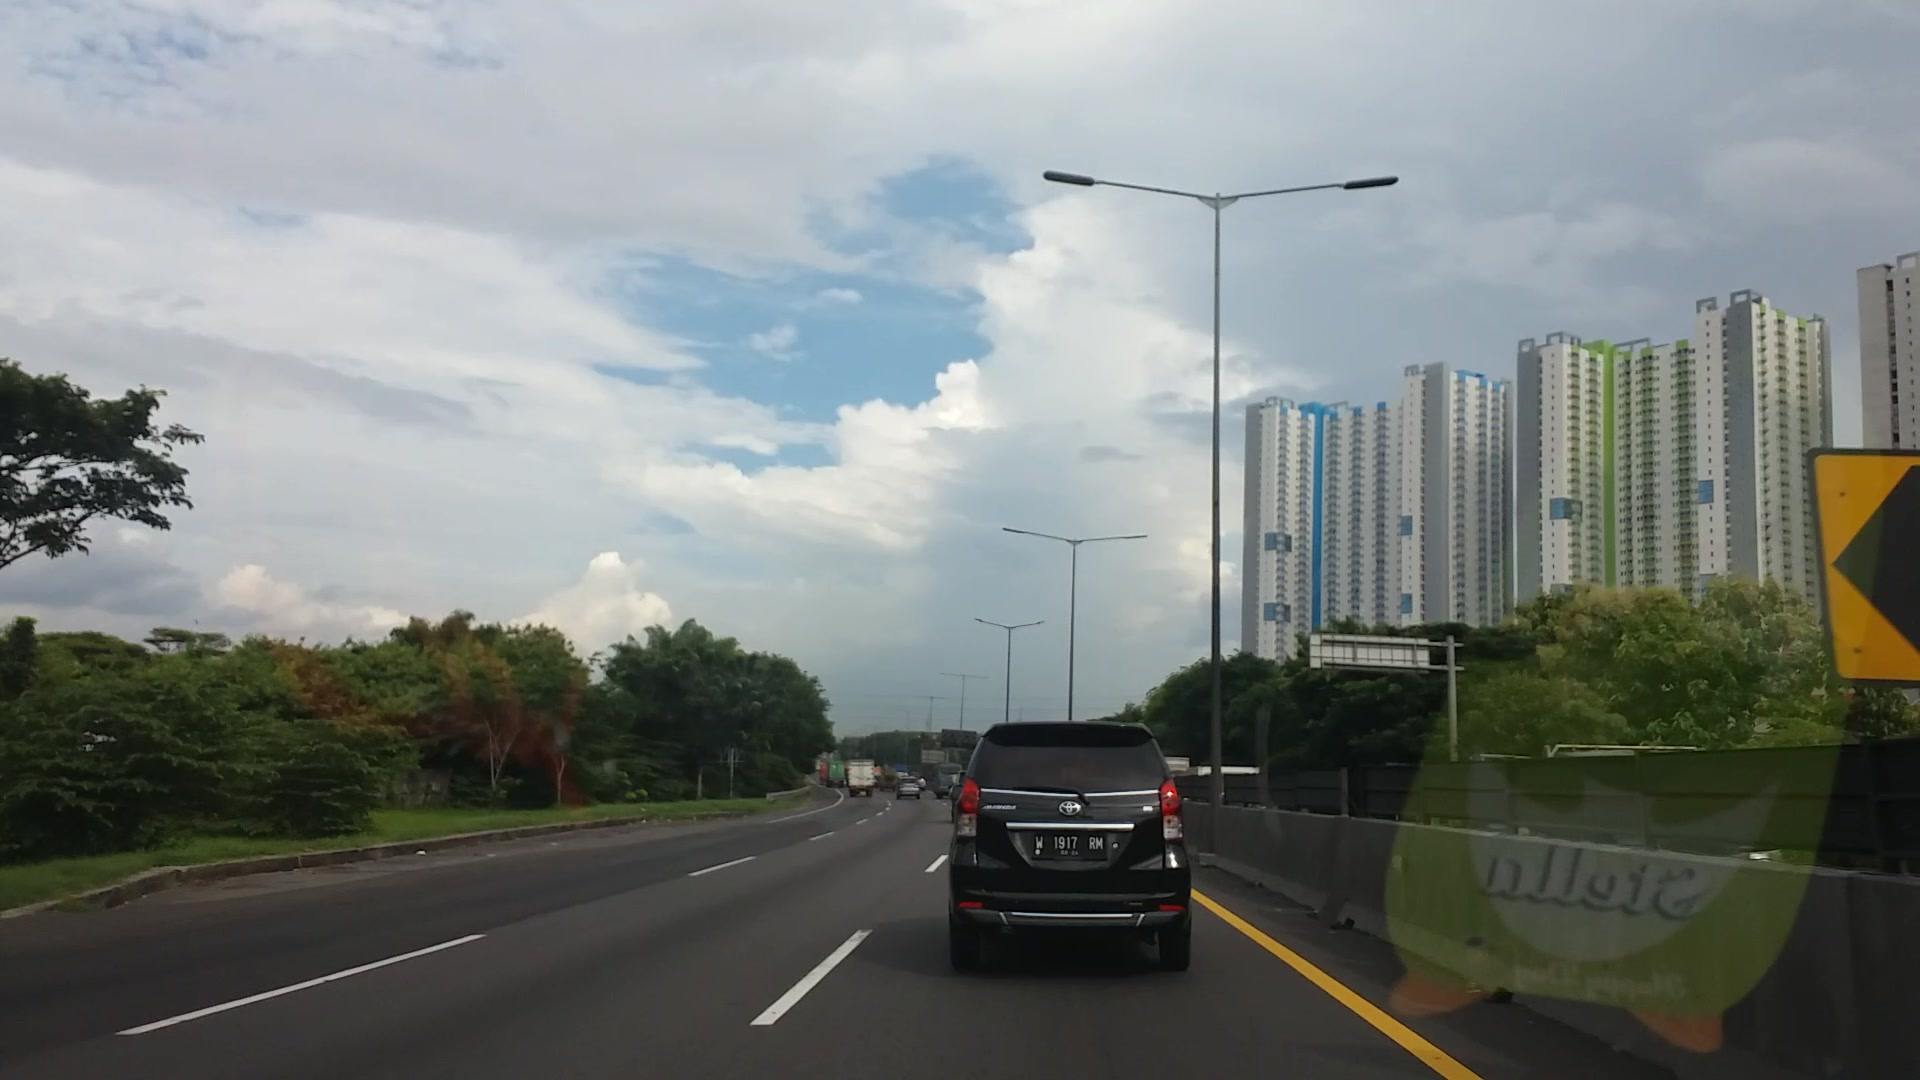plate_positive: (1033, 831, 1105, 858)
